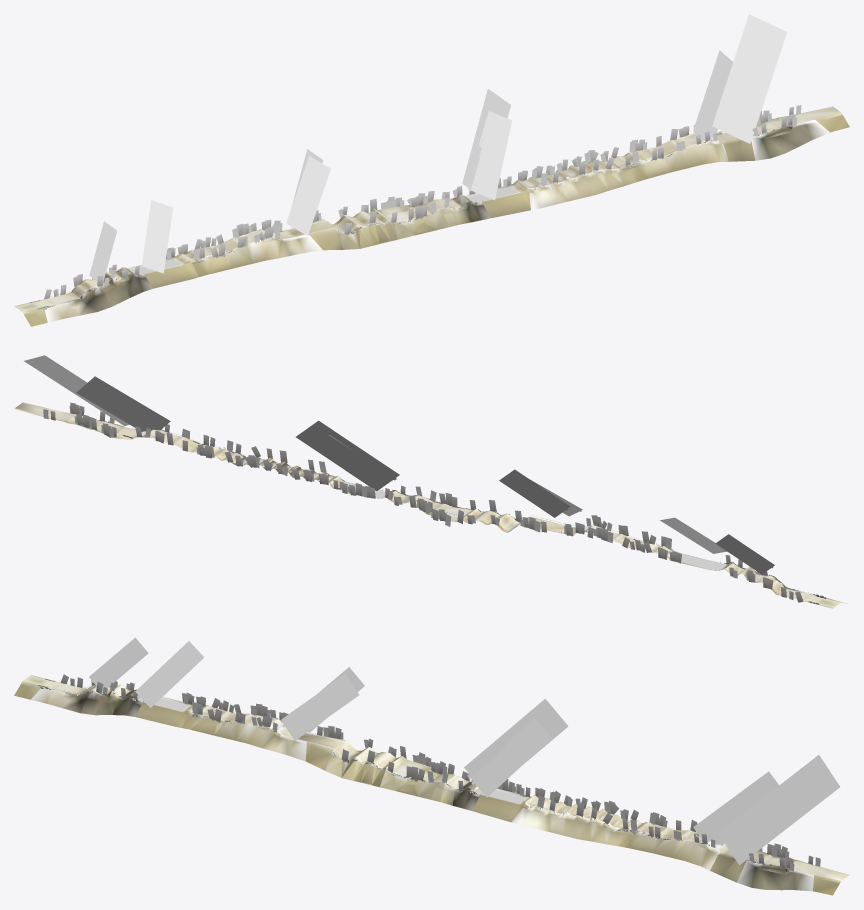
File: Beach_04.fbx
3 views of the same model, one above another, from view 1: azimuth 30°, elevation 25°; view 2: azimuth 150°, elevation 25°; view 3: azimuth 330°, elevation 25° (orthographic).
Parts seen in each view (by area): view 1: Light_01, Mountain_01, Tree_01, Road_01, Ground_01; view 2: Light_01, Tree_01, Ground_01, Road_01; view 3: Light_01, Mountain_01, Tree_01, Road_01, Ground_01, Sea_01.
Part boxes in pixels (left/top/right/bottom): Light_01: left=89, top=14, right=786, bottom=282; Mountain_01: left=44, top=119, right=829, bottom=322; Tree_01: left=43, top=105, right=801, bottom=309; Road_01: left=14, top=106, right=849, bottom=326; Ground_01: left=15, top=107, right=840, bottom=312; Light_01: left=24, top=355, right=774, bottom=574; Tree_01: left=43, top=402, right=823, bottom=602; Ground_01: left=15, top=402, right=840, bottom=607; Road_01: left=14, top=402, right=843, bottom=608; Light_01: left=89, top=637, right=839, bottom=865; Mountain_01: left=31, top=687, right=813, bottom=891; Tree_01: left=40, top=674, right=820, bottom=871; Road_01: left=14, top=675, right=849, bottom=895; Ground_01: left=23, top=676, right=848, bottom=880; Sea_01: left=138, top=697, right=525, bottom=803.
Bounding box in the file's own units: 73912 × 9183 × 7019.
